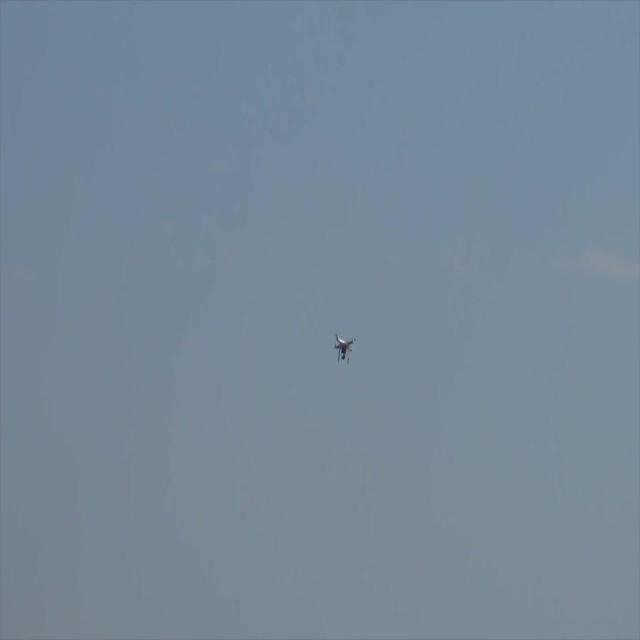drone: (330, 329, 356, 367)
